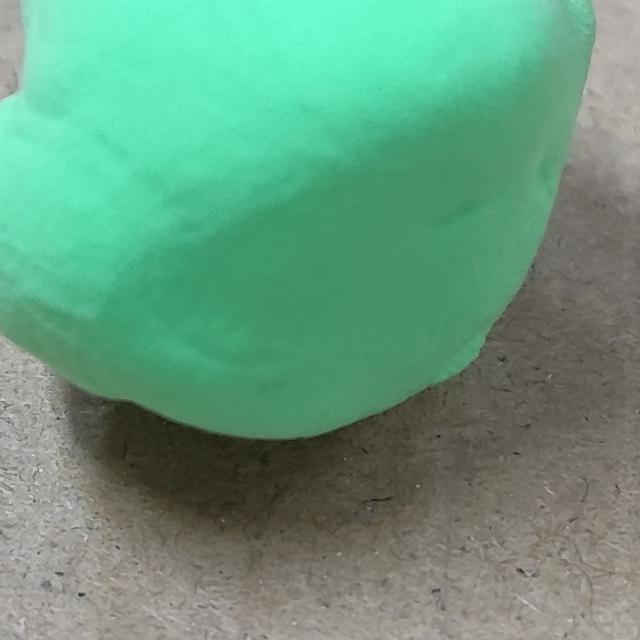good: (0, 0, 591, 440)
